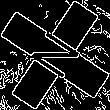N_SE: (23, 24, 87, 86)
